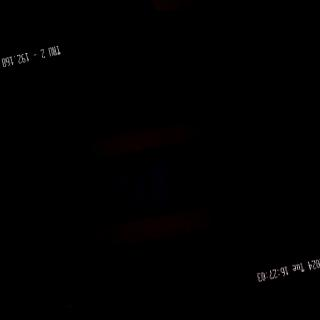screen: (62, 36, 267, 320)
